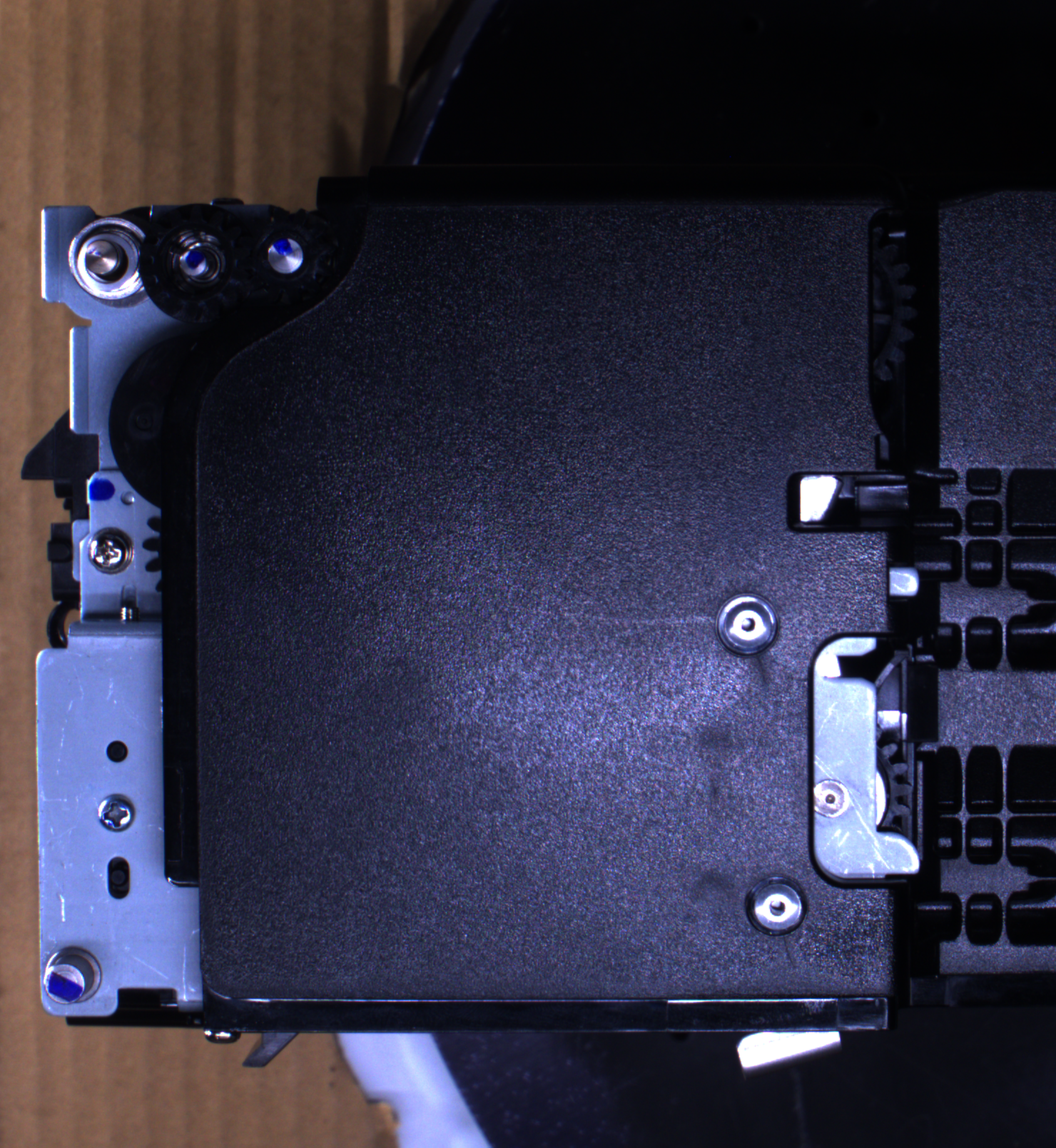centre_pin_presence: (730, 1015, 848, 1077)
centre_plate_presence: (808, 628, 934, 891)
centre_screw_presence: (739, 869, 813, 944), (713, 588, 783, 664)
gear1_absence: (66, 216, 151, 311)
gear2_presence: (141, 203, 249, 323)
gear3_presence: (235, 204, 335, 306)
side_screw_presence: (85, 524, 136, 576), (95, 792, 136, 835)
slanting_pin_presence: (36, 941, 110, 1015)
